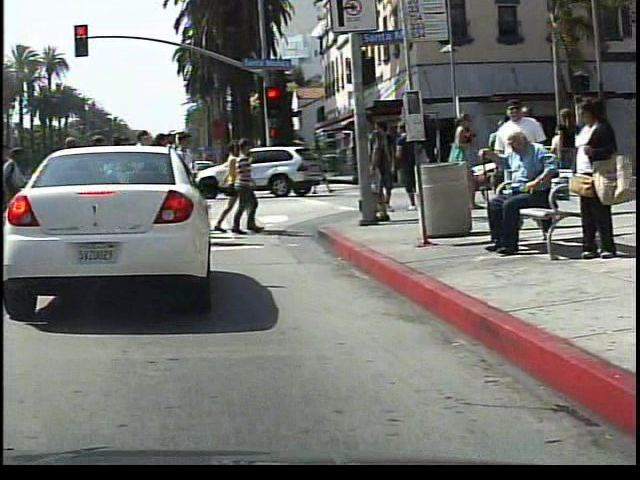person: (471, 125, 565, 256), (559, 91, 620, 269), (434, 108, 480, 214), (302, 145, 328, 196)
